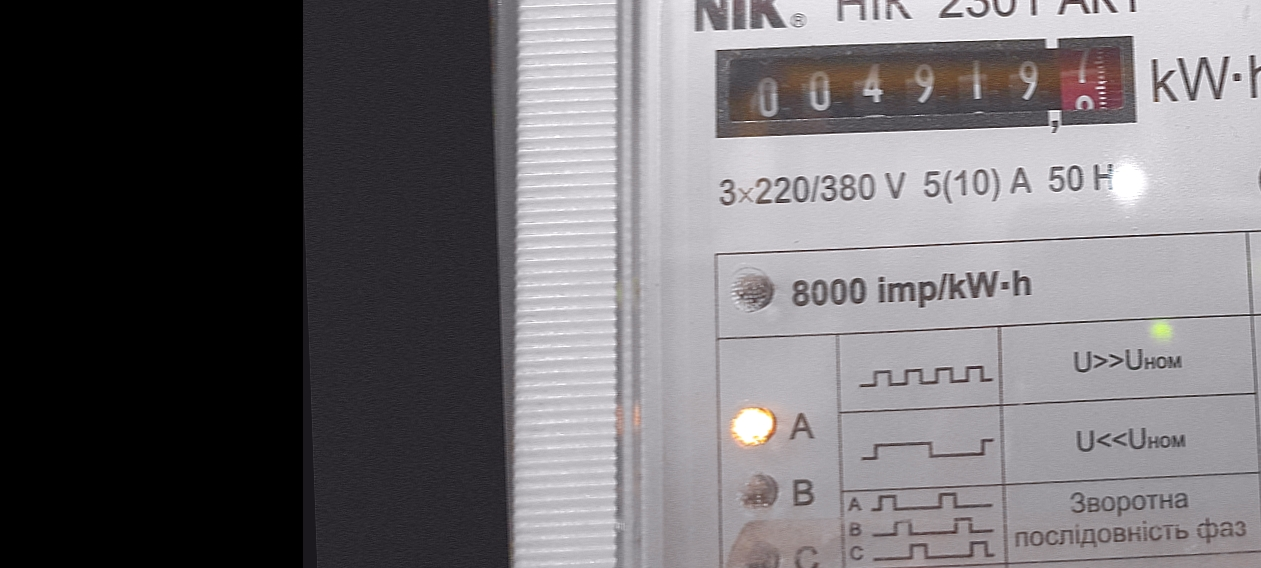0: (806, 65, 833, 111), (755, 72, 780, 116)
1: (968, 54, 984, 100)
4: (858, 58, 884, 102)
7: (1069, 44, 1093, 84)
9: (1016, 54, 1040, 102), (912, 59, 937, 104)
screen: (701, 18, 1154, 154)
